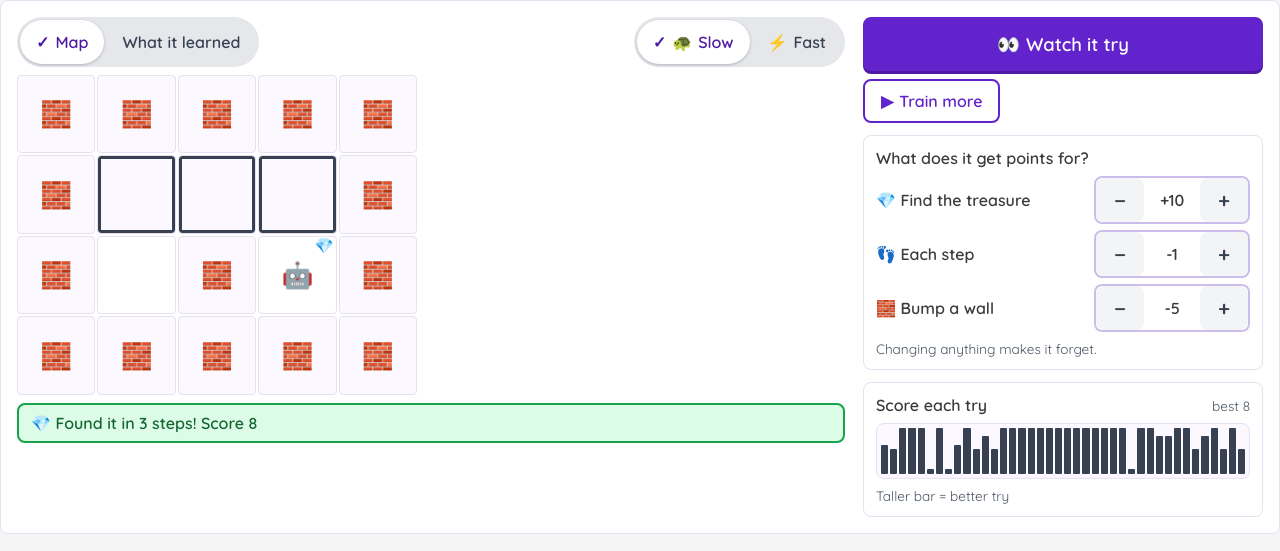
Test case: Game agent UI › What it learned draws best-move arrows in open squares only
Click the radio button labelled "What it learned" at [181, 42], box [106,20,256,64]
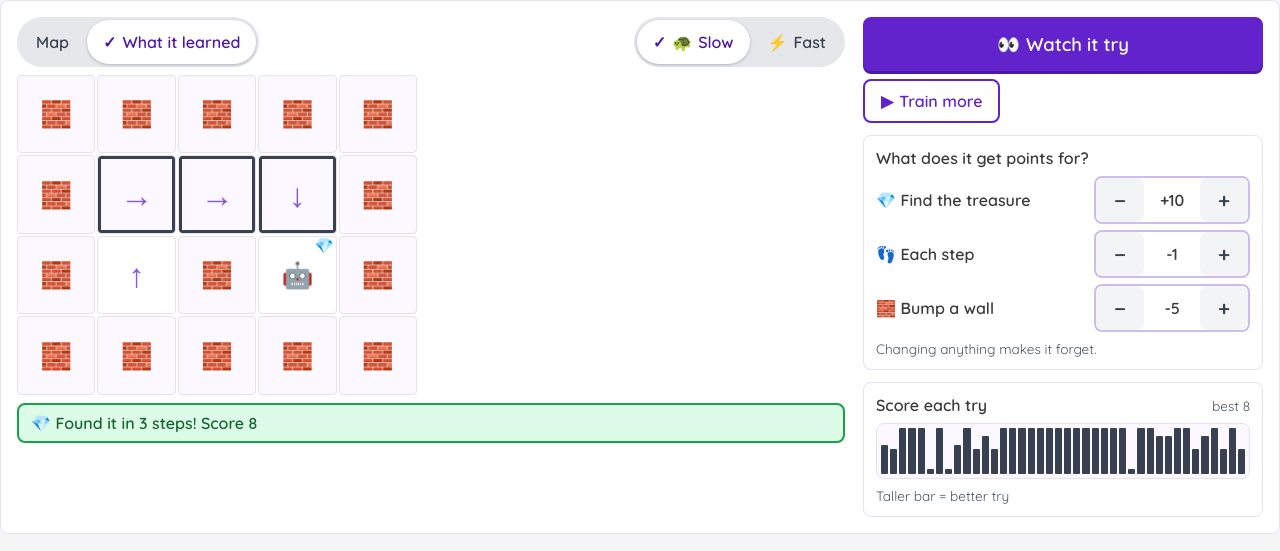
Result: the 1st picture "→" is shown at [120,174,153,215]
